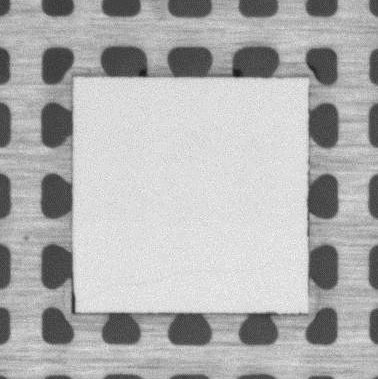DIE_CRACK: (98, 263, 272, 291)
